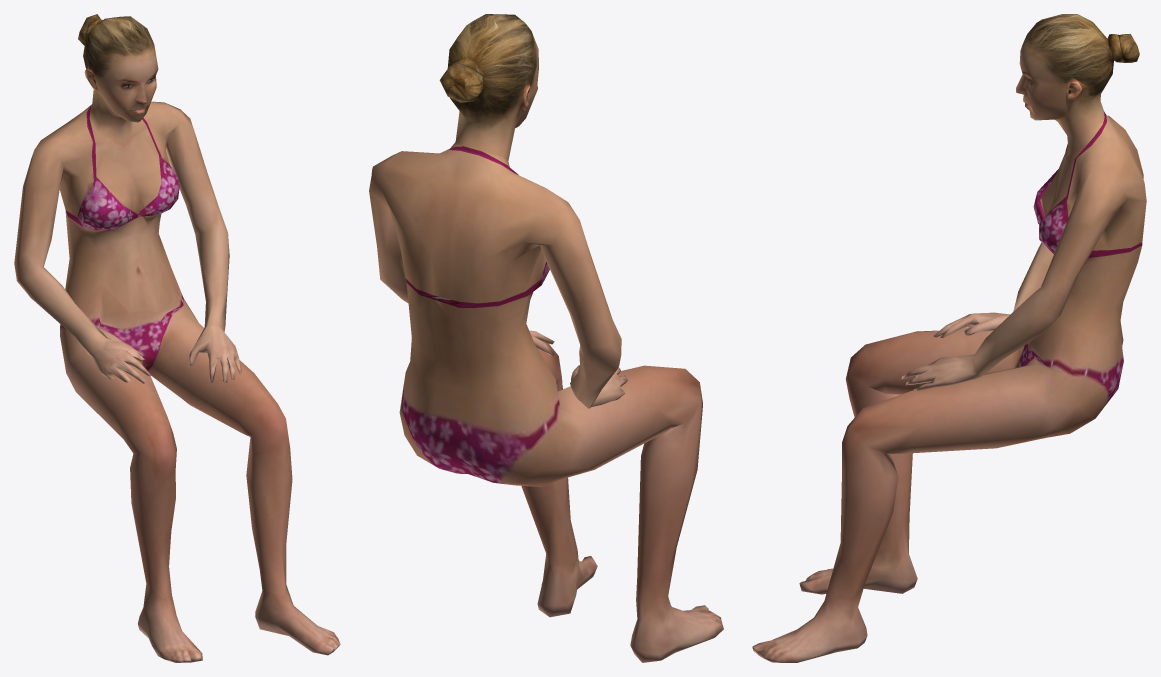
File: Sports_Female_01_seated.glb
The picture shows the model from 3 angles, left to right: view 1: azimuth 30°, elevation 25°; view 2: azimuth 150°, elevation 25°; view 3: azimuth 270°, elevation 25°; orthographic projection. The views are drawn at different scales.
Visible parts, largest first — view 1: f021_hipoly_81_bones_b; view 2: f021_hipoly_81_bones_b; view 3: f021_hipoly_81_bones_b.
Boxes of the visible parts, <box> form: f021_hipoly_81_bones_b: <box>14,14,340,662</box>; f021_hipoly_81_bones_b: <box>369,14,723,662</box>; f021_hipoly_81_bones_b: <box>752,14,1146,662</box>.
Bounding box in the file's own units: 0.5293 × 1.4 × 0.8367.
2 materials, 2 textured.
